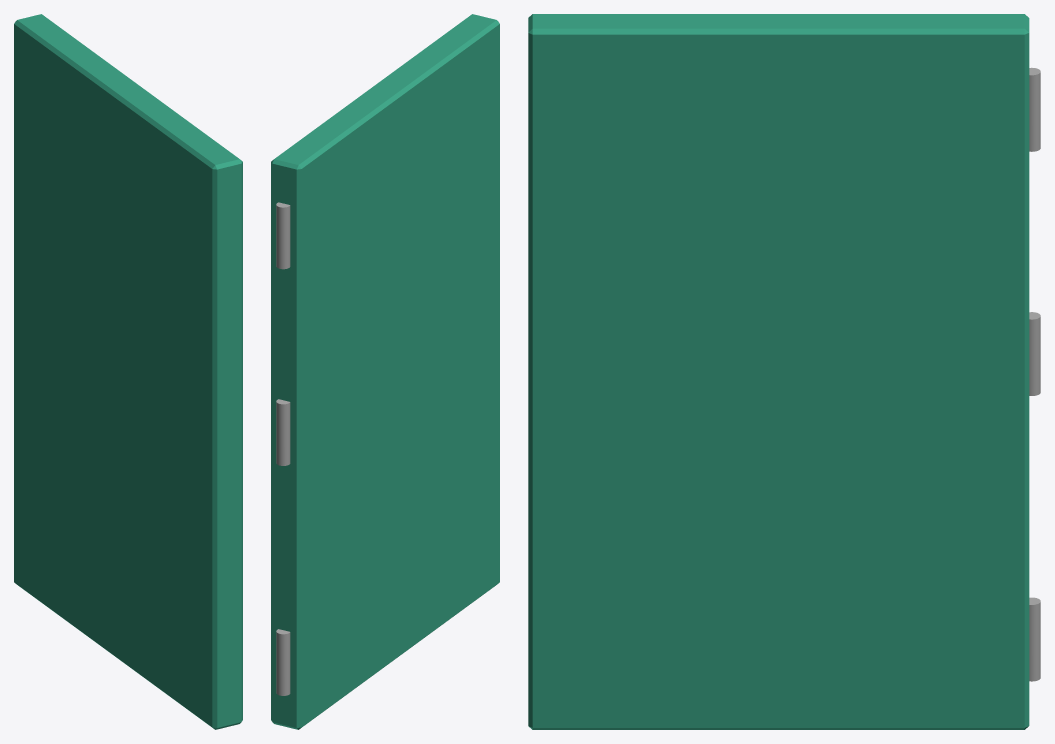
The model's file is ToiletDoor.fbx.
3 renders of one model, left to right at view 1: azimuth 30°, elevation 25°; view 2: azimuth 150°, elevation 25°; view 3: azimuth 270°, elevation 25°, orthographic. The views are drawn at different scales.
Visible parts, largest first — view 1: ToiletDoor; view 2: ToiletDoor; view 3: ToiletDoor.
Boxes of the visible parts, left/top/right/bottom form: ToiletDoor: left=14, top=14, right=242, bottom=729; ToiletDoor: left=271, top=14, right=499, bottom=729; ToiletDoor: left=528, top=14, right=1040, bottom=729.
Size of the model in its own units: 26.67 by 471 by 312.
